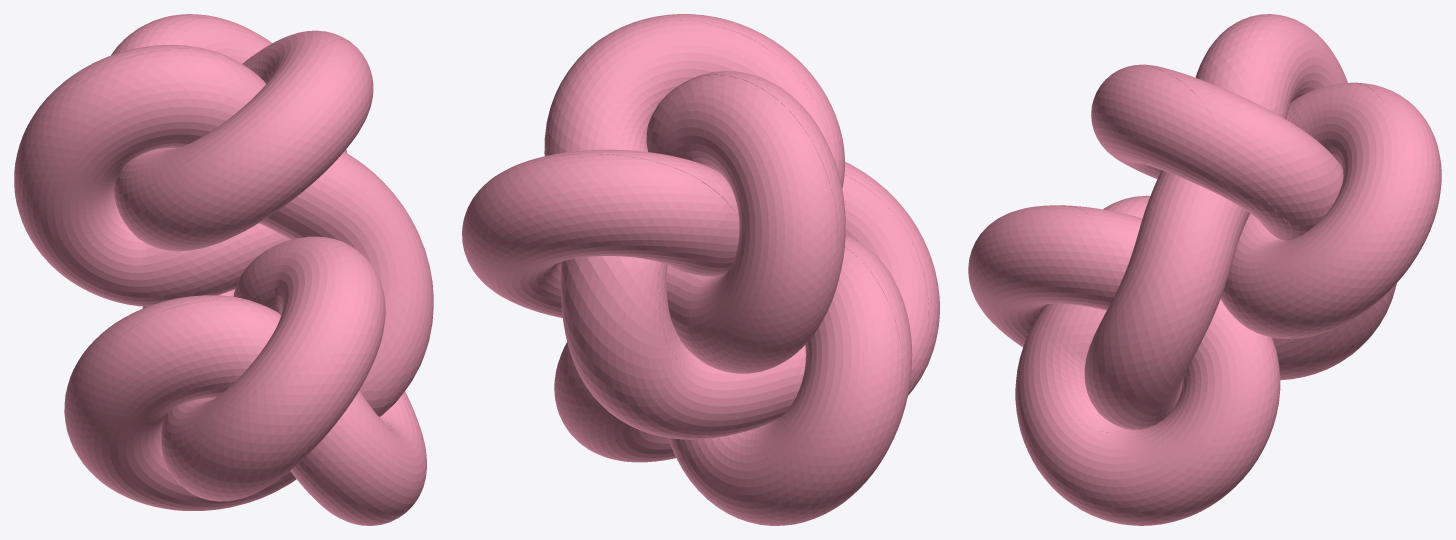
The model's file is gem_893325340.gltf.
The picture shows the model from 3 angles, left to right: view 1: azimuth 30°, elevation 25°; view 2: azimuth 150°, elevation 25°; view 3: azimuth 270°, elevation 25°; orthographic projection. The views are drawn at different scales.
Size of the model in its own units: 1.07 by 1.37 by 1.37.
